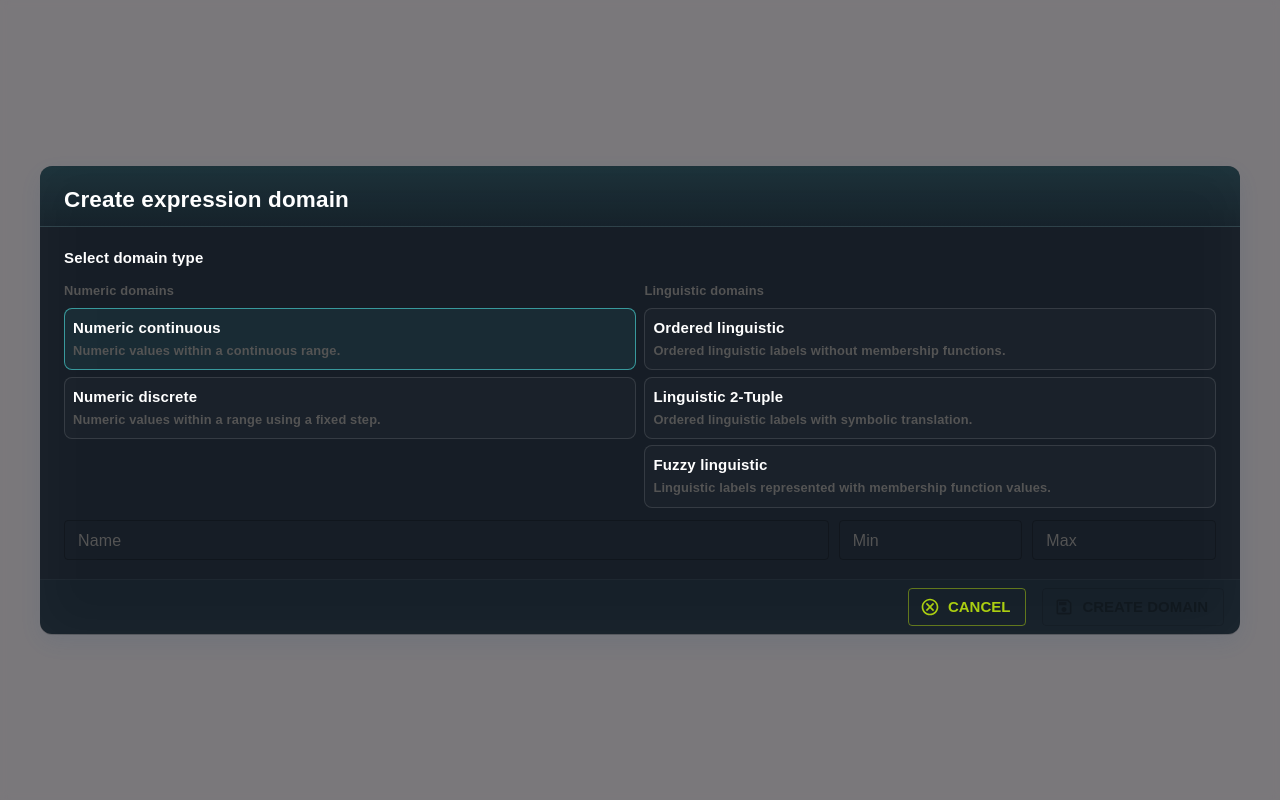
Test: CreateExpressionDomainDialog › renders grouped type selection above the form without a Selected chip
Expected: the text "Select domain type" is shown, [64,249,203,266]
Expected: the text "Numeric domains" is shown, [64,283,174,298]
What coordinates should you click on to do the following:
click the button that starts with "Ordered linguistic"
I would click on:
 (719, 327)
Its box is [644,308,1216,370].
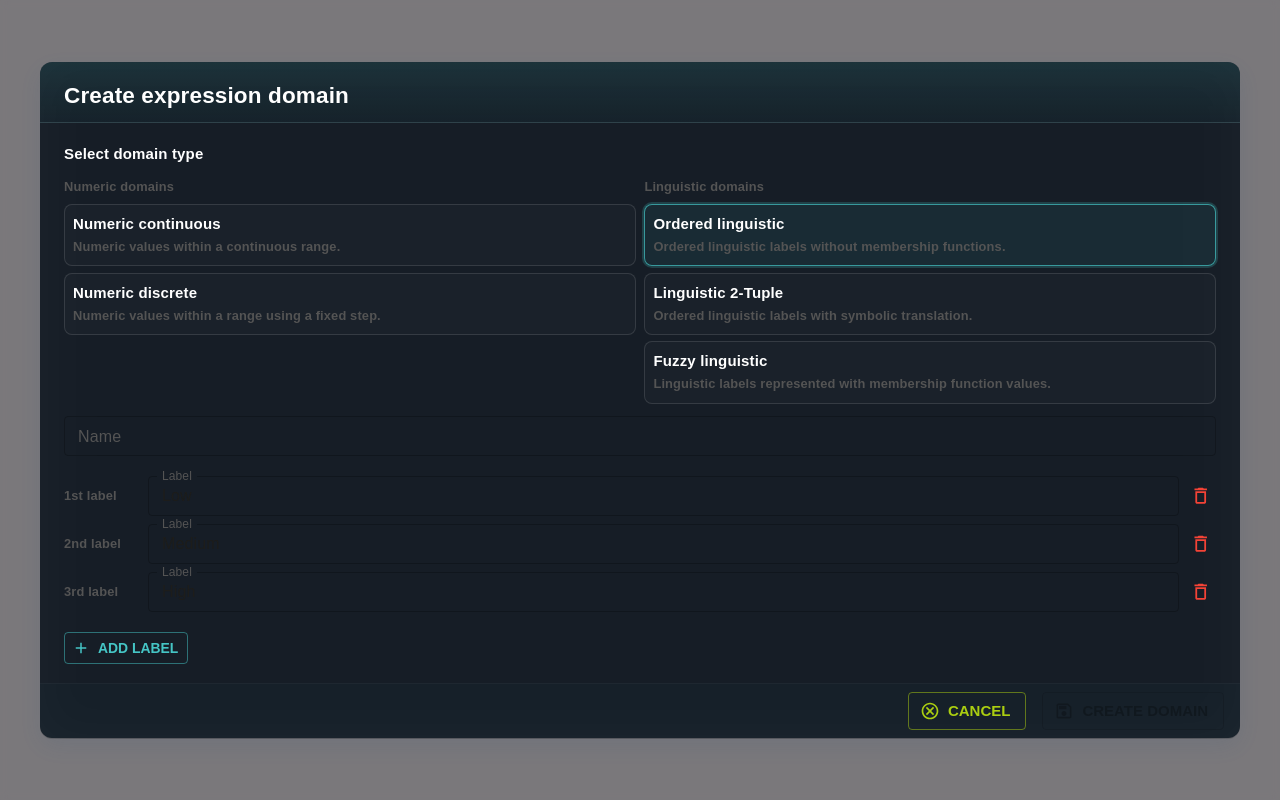
Expected: the text "1st label" is shown, [64,488,117,503]
